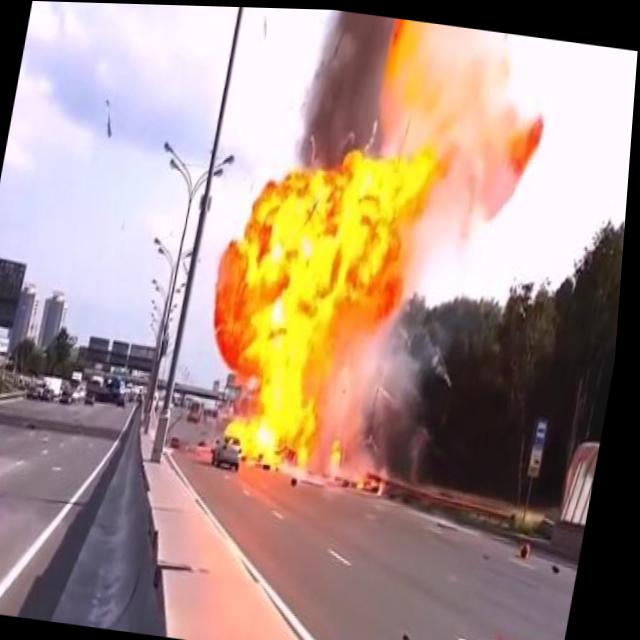fire: (183, 105, 472, 499), (375, 17, 448, 109), (504, 96, 550, 184)
